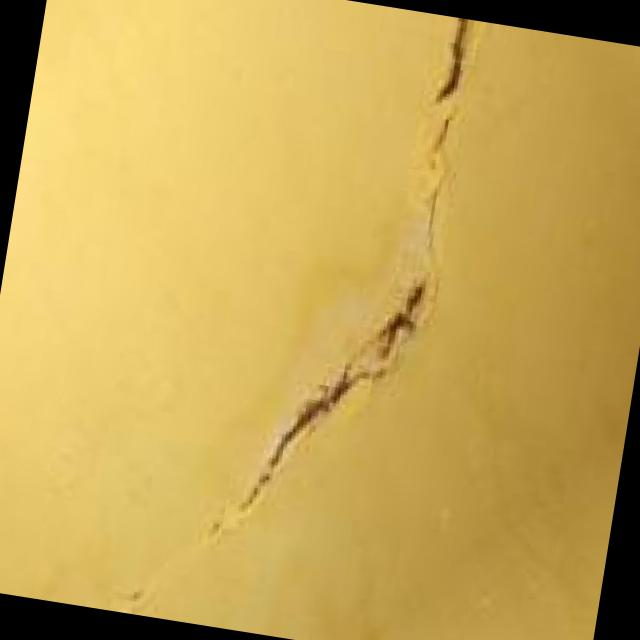crack: (175, 0, 518, 596)
